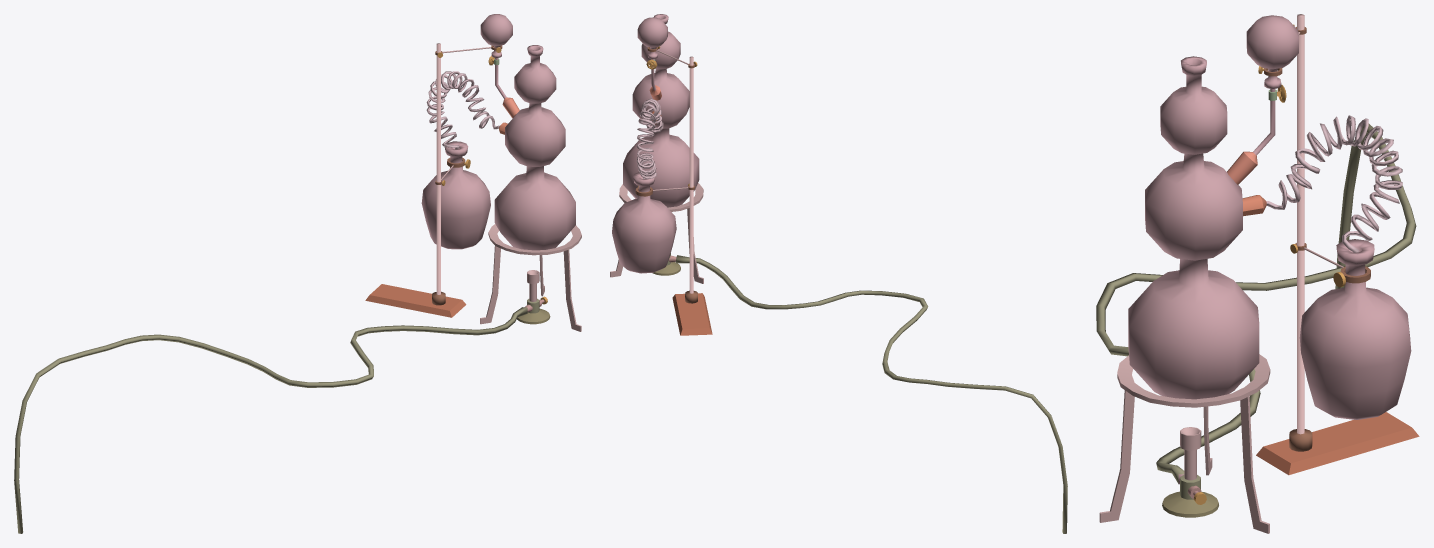
Rendered from labor1.FBX.
The picture shows the model from 3 angles, left to right: view 1: azimuth 30°, elevation 25°; view 2: azimuth 150°, elevation 25°; view 3: azimuth 270°, elevation 25°; orthographic projection. The views are drawn at different scales.
Visible parts, largest first — view 1: Glass_D_004_lod_1 (×4), Line001_lod_1, box_labor_005_lod_1; view 2: Glass_D_004_lod_1 (×3), Line001_lod_1, box_labor_005_lod_1; view 3: Glass_D_004_lod_1 (×6), box_labor_005_lod_1, Line001_lod_1.
Boxes of the visible parts, x1,y1,x2,y2 form: Glass_D_004_lod_1 (×4): [421, 14, 581, 331]; Line001_lod_1: [14, 307, 527, 533]; box_labor_005_lod_1: [365, 43, 502, 317]; Glass_D_004_lod_1 (×3): [610, 14, 703, 283]; Line001_lod_1: [676, 255, 1067, 533]; box_labor_005_lod_1: [635, 46, 712, 335]; Glass_D_004_lod_1 (×6): [1099, 15, 1411, 533]; box_labor_005_lod_1: [1256, 14, 1419, 475]; Line001_lod_1: [1096, 123, 1416, 484].
Bounding box in the file's own units: 911 × 296 × 709.
1 material, 1 textured.
